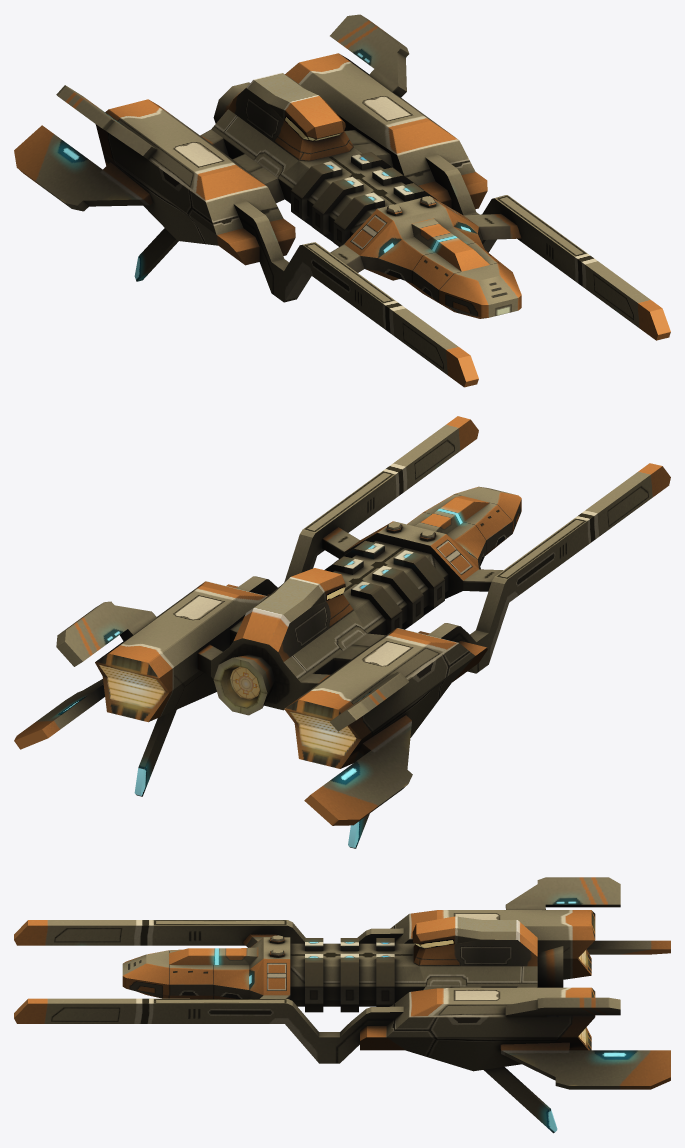
3 renders of one model, top to bottom at view 1: azimuth 30°, elevation 25°; view 2: azimuth 150°, elevation 25°; view 3: azimuth 270°, elevation 25°, orthographic. The views are drawn at different scales.
Parts seen in each view (by area): view 1: SC-CS01C; view 2: SC-CS01C; view 3: SC-CS01C.
Part boxes in pixels (left/top/right/bottom): SC-CS01C: left=14, top=14, right=670, bottom=387; SC-CS01C: left=14, top=416, right=670, bottom=848; SC-CS01C: left=14, top=877, right=670, bottom=1133.
Bounding box in the file's own units: 1822 × 3608 × 1009.
